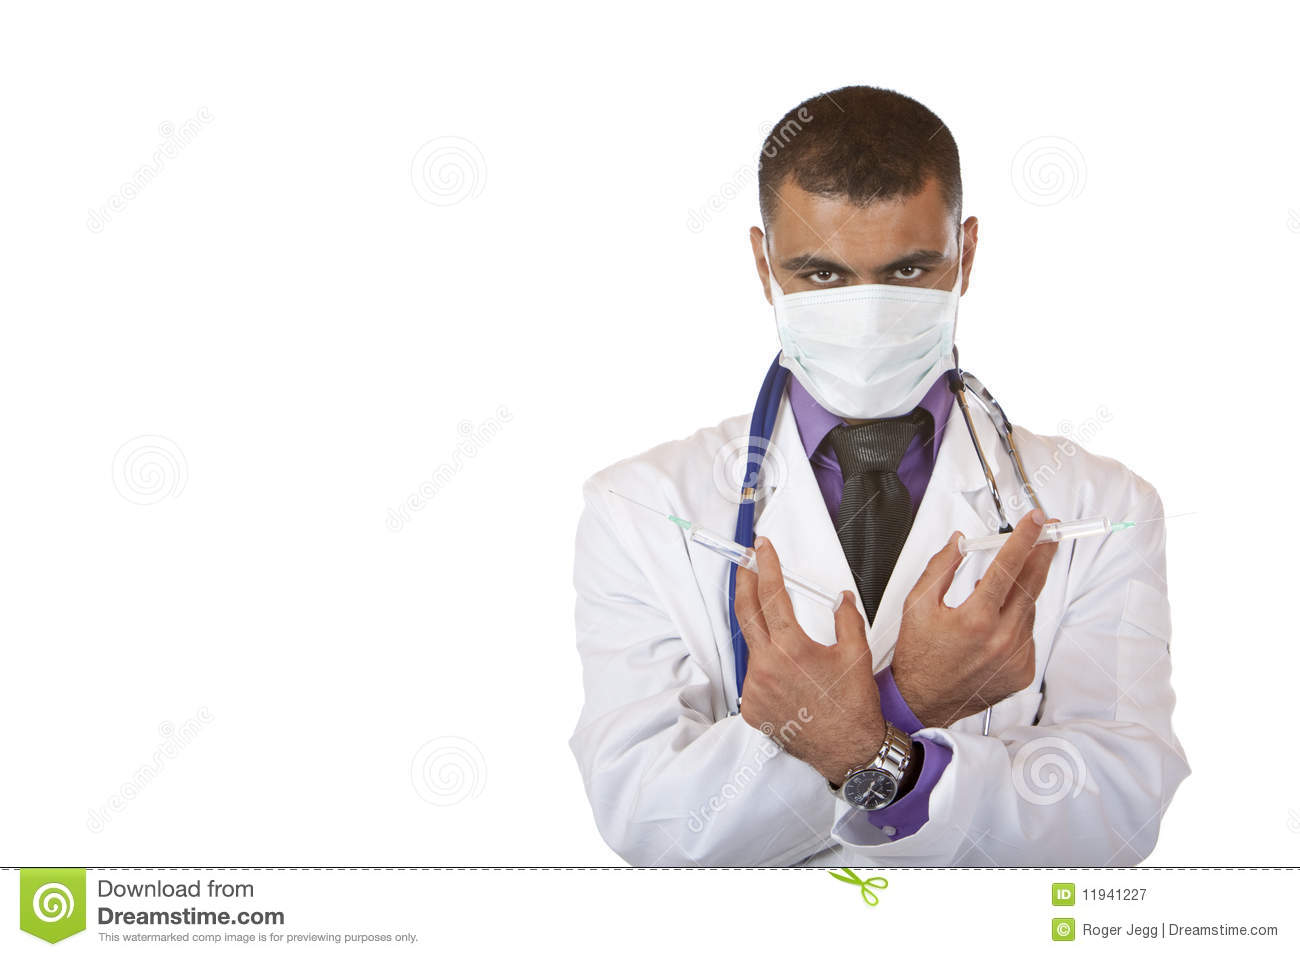mask: (773, 285, 954, 421)
